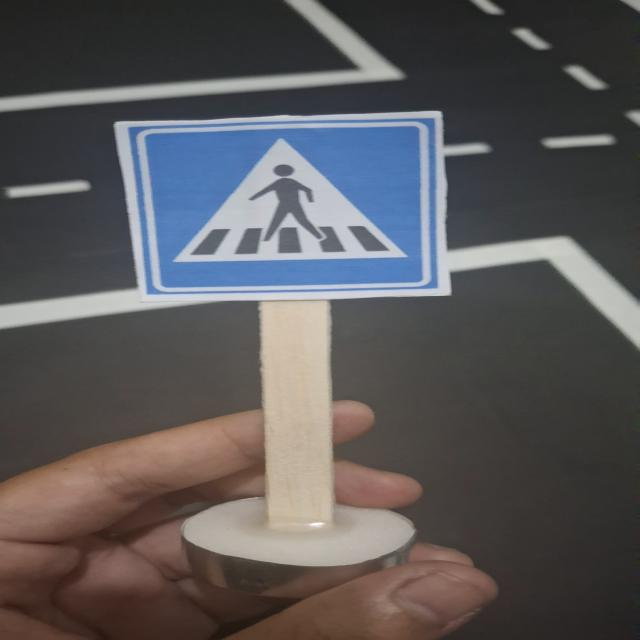Rambu Penyebrangan: (134, 119, 441, 298)
